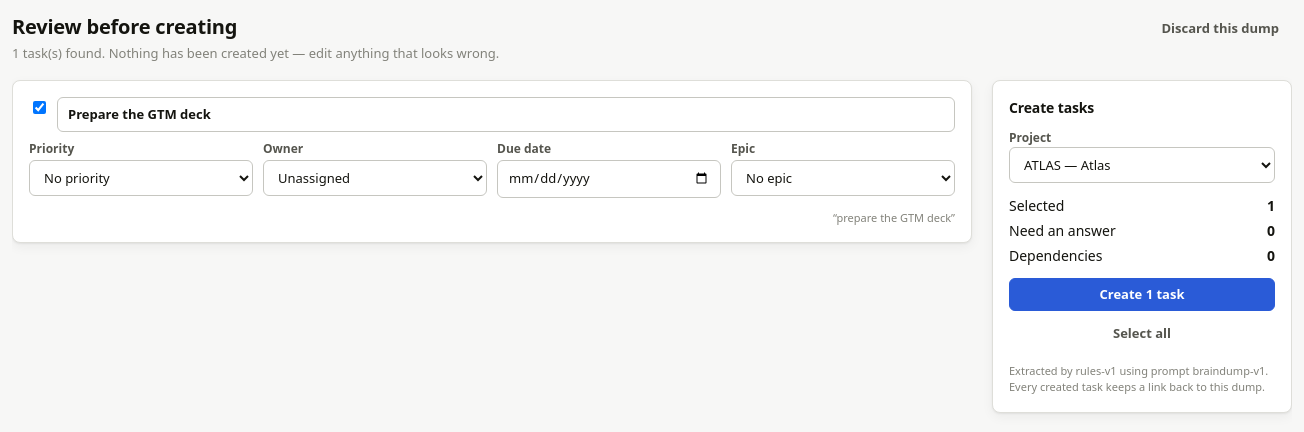
it: ProposalReview › refuses to submit when everything has been unchecked
What coordinates should you click on to do the following:
click the checkbox named "Include \"Prepare the GTM deck\""
I would click on:
 (40, 107)
Its box is [33,100,46,114].
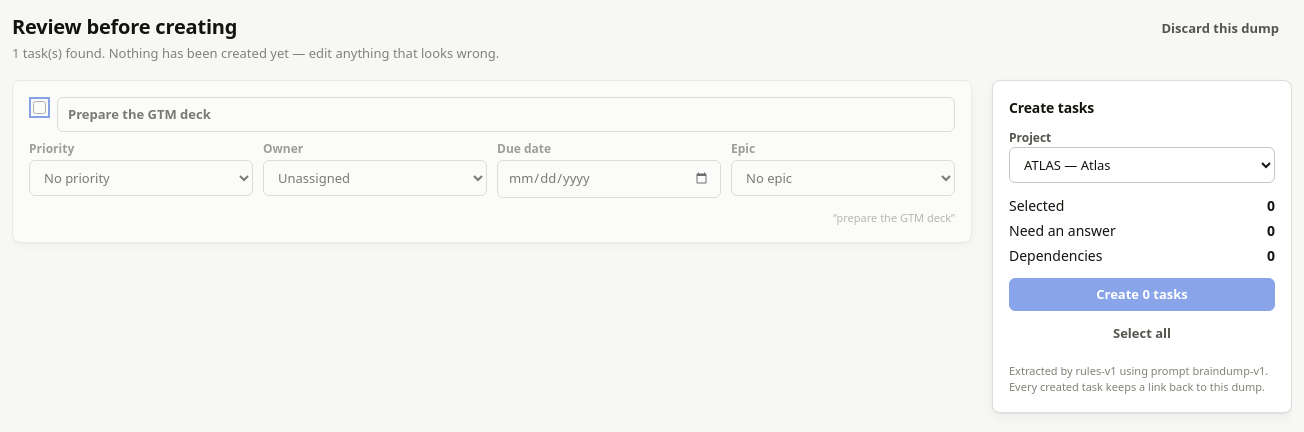
Now the button "Create 0 tasks" is disabled, box [1009,278,1275,311]
